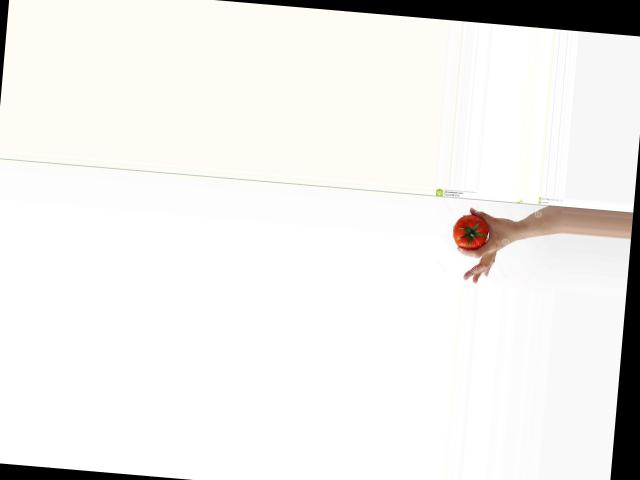tomato: (452, 213, 489, 251)
